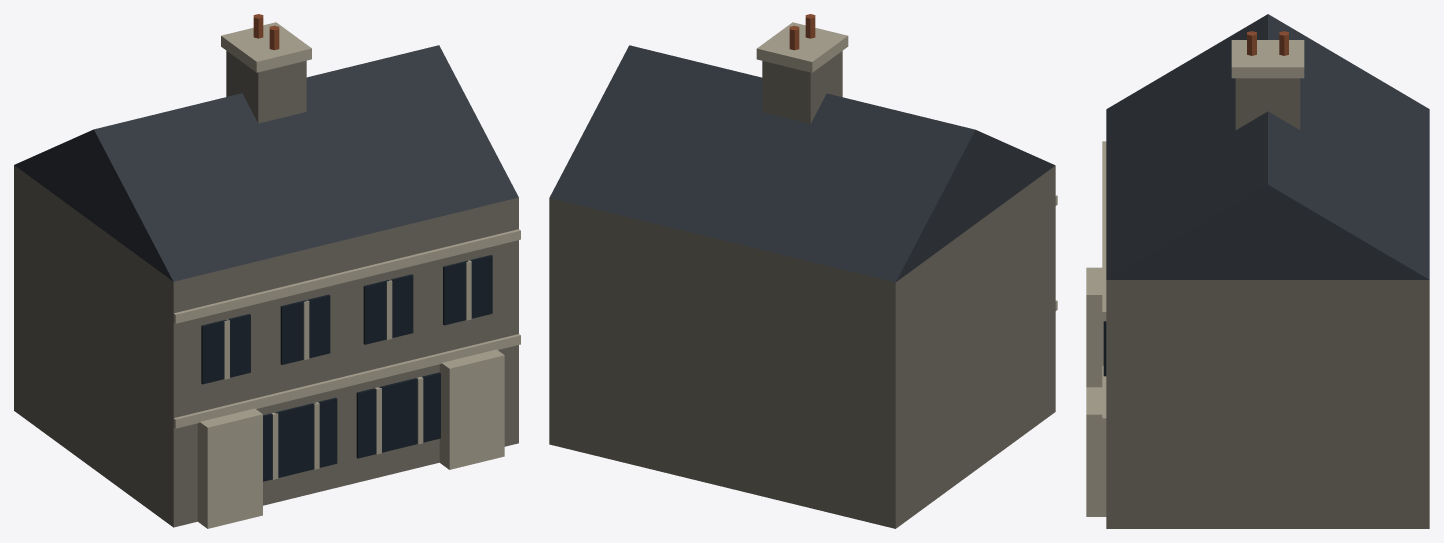
File: building_westyork_s1_gritstone_terrace.glb
3 renders of one model, left to right at view 1: azimuth 30°, elevation 25°; view 2: azimuth 150°, elevation 25°; view 3: azimuth 270°, elevation 25°, orthographic.
Visible parts, largest first — view 1: building_westyork_s1_gritstone_terrace; view 2: building_westyork_s1_gritstone_terrace; view 3: building_westyork_s1_gritstone_terrace.
Boxes of the visible parts, x1,y1,x2,y2 form: building_westyork_s1_gritstone_terrace: (14, 14, 520, 528); building_westyork_s1_gritstone_terrace: (549, 14, 1057, 528); building_westyork_s1_gritstone_terrace: (1086, 14, 1429, 528).
Bounding box in the file's own units: 10 × 11.2 × 8.5.
1 material, 1 textured.
